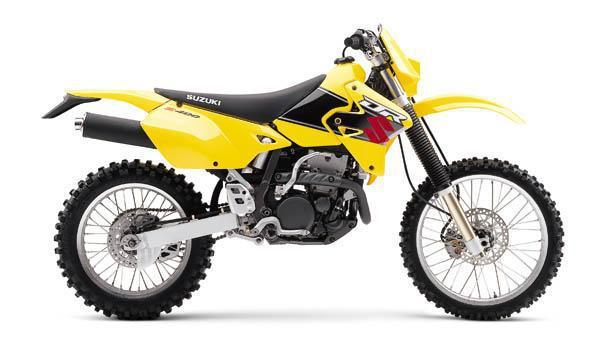Motorcycle: (33, 10, 582, 334)
